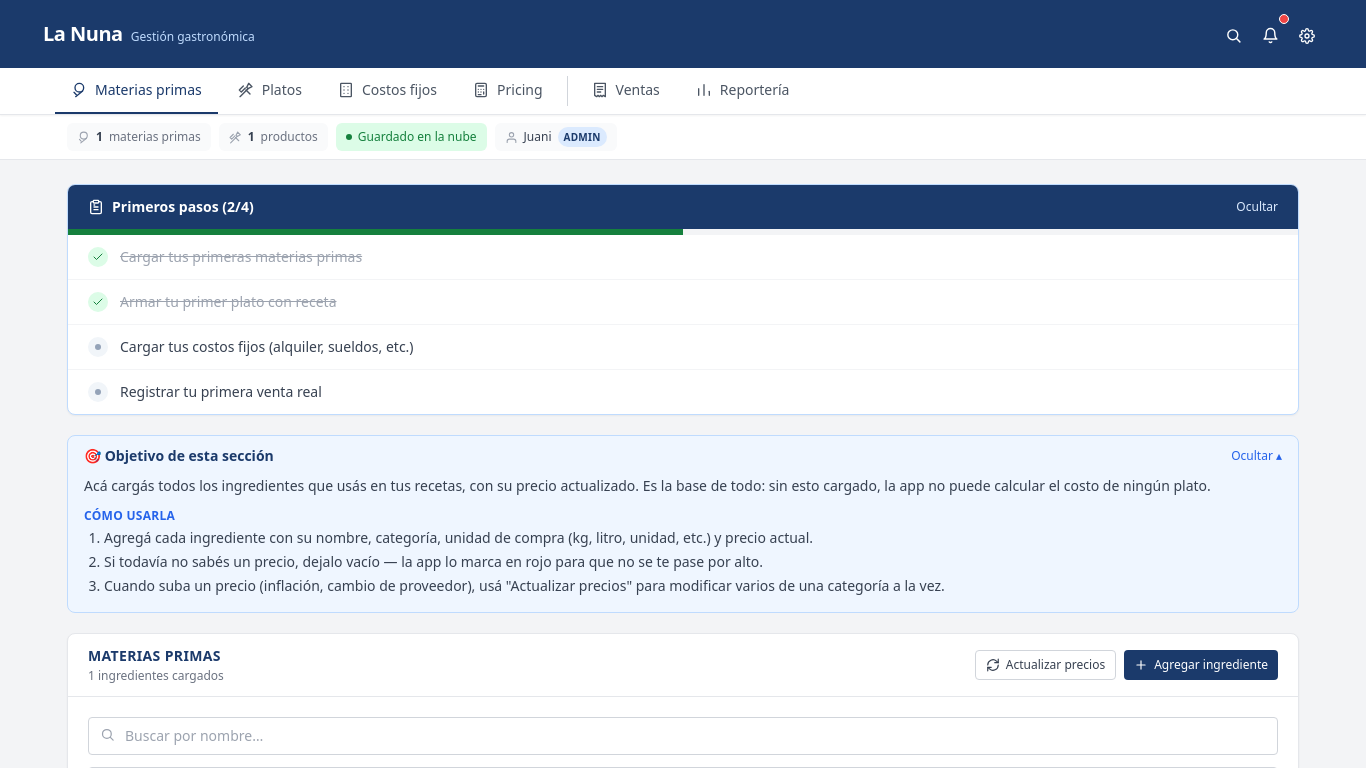
Test: E2E — una venta registrada termina impactando los números de Reportería › antes de vender nada, Reportería muestra 'sin datos'
Click the button "Reportería". click: (743,91)
box: left=680, top=68, right=806, bottom=114
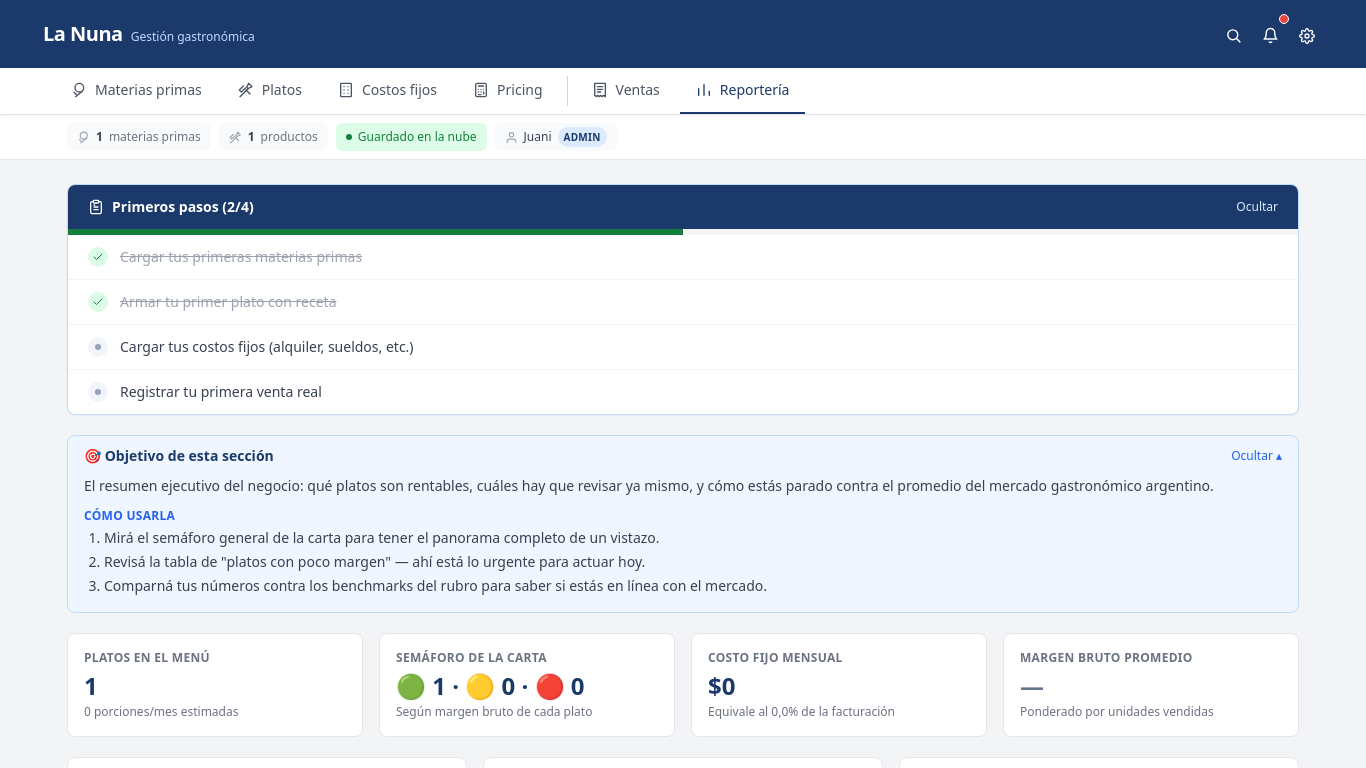
Expected: the text "—" is shown, left=104, top=552, right=645, bottom=571
Expected: the text "Margen bruto promedio" is shown, left=1020, top=649, right=1193, bottom=666
Expected: the text "0 porciones/mes estimadas" is shown, left=84, top=703, right=238, bottom=720
